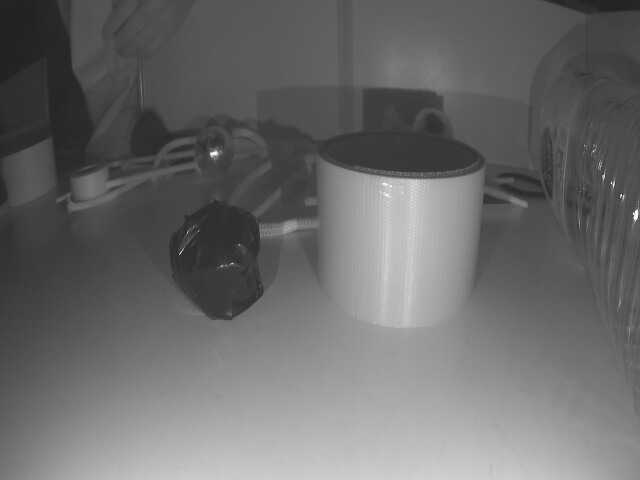Dead: (171, 204, 260, 311)
Live: (196, 126, 230, 173)
